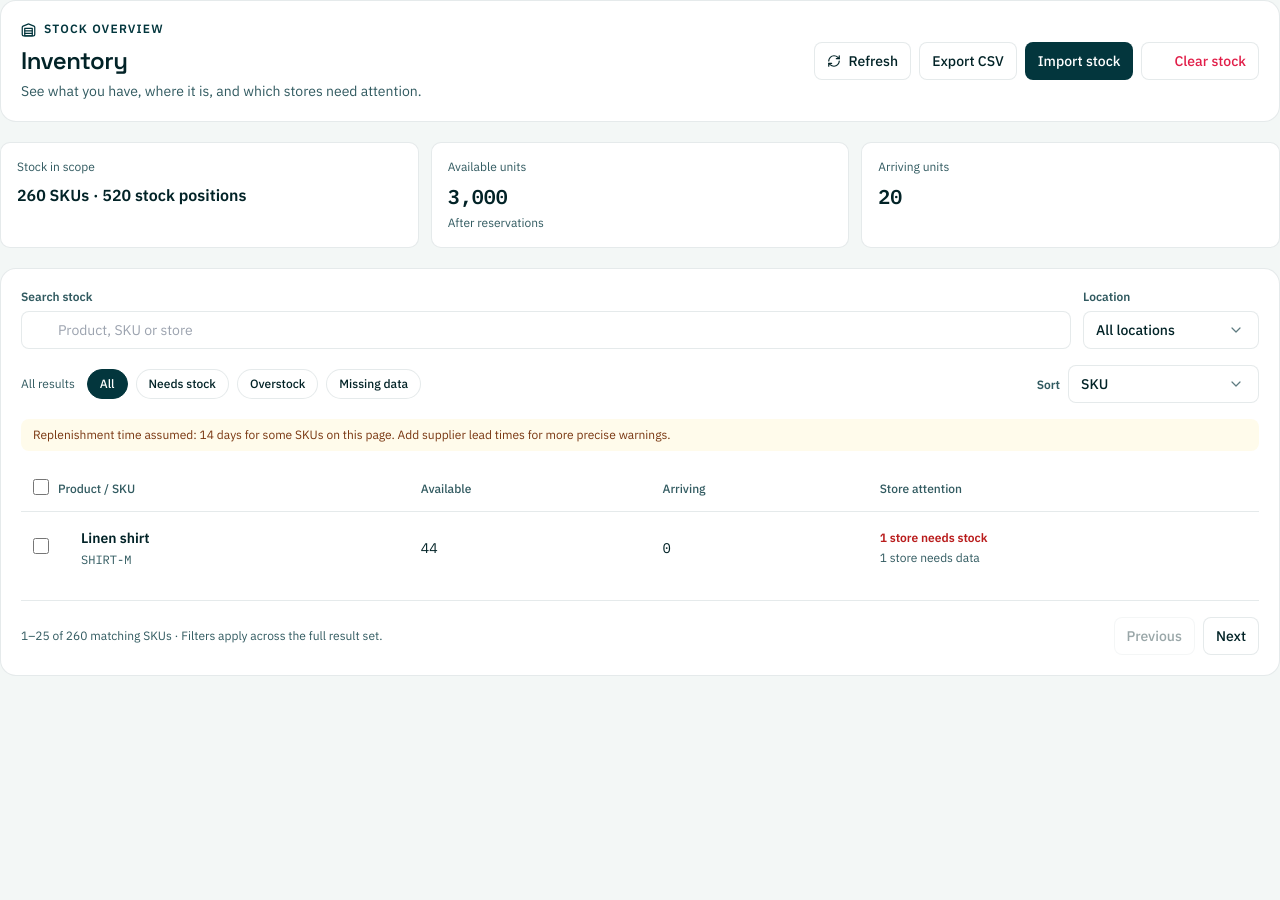
it: shows a source-specific transfer only on the matching store
Click the button with aria-label "show stores for shirt-m": x=104, y=548 [58,528,150,568]
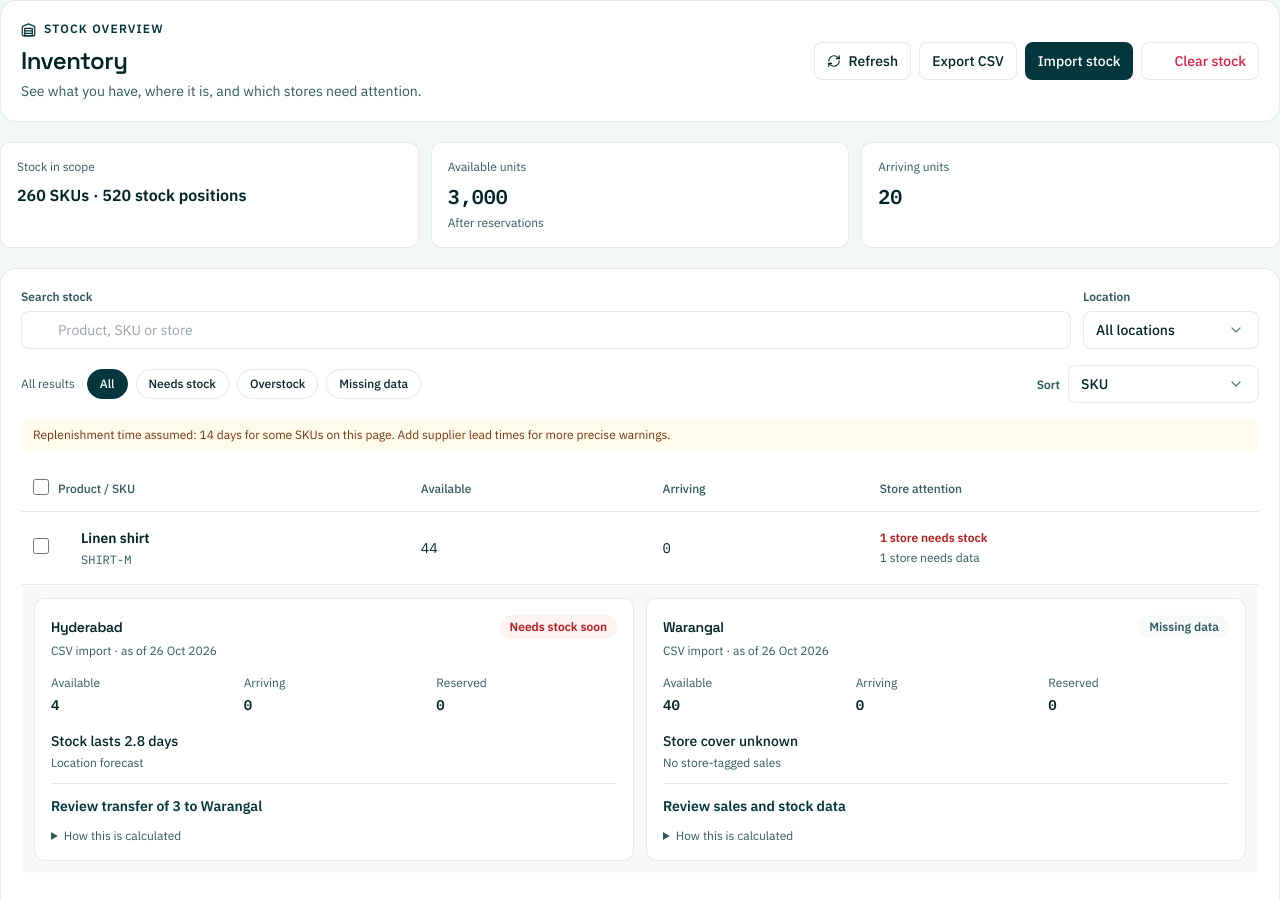
Now the link "Review transfer of 3 to Warangal" is shown, box [51,797,262,815]
